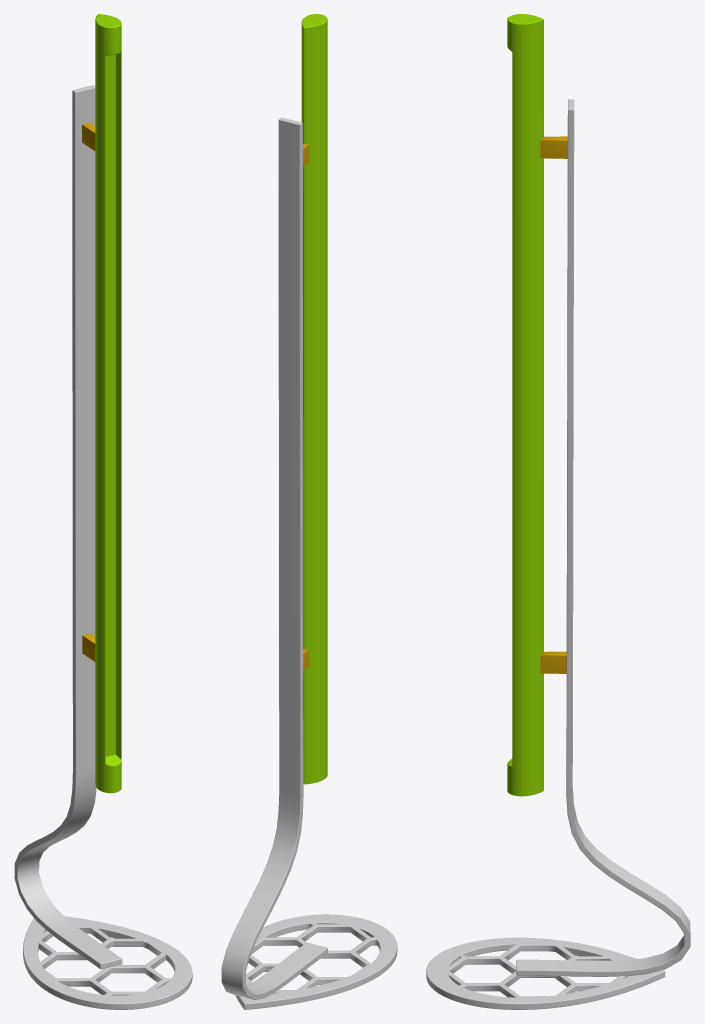
Rendered from LED_BarLight.fbx.
The picture shows the model from 3 angles, left to right: view 1: azimuth 30°, elevation 25°; view 2: azimuth 150°, elevation 25°; view 3: azimuth 270°, elevation 25°; orthographic projection. The views are drawn at different scales.
Visible parts, largest first — view 1: LightBar, Stand, StandBase; view 2: Stand, LightBar, StandBase; view 3: LightBar, Stand, StandBase.
Boxes of the visible parts, x1,y1,x2,y2 form: LightBar: (82,14,121,793); Stand: (14,85,122,969); StandBase: (23,916,192,1009); Stand: (221,117,327,999); LightBar: (301,14,327,784); StandBase: (235,914,397,1009); LightBar: (507,14,567,796); Stand: (516,99,690,976); StandBase: (426,937,665,1009).
Bounding box in the file's own units: 22.09 × 149 × 37.19.
